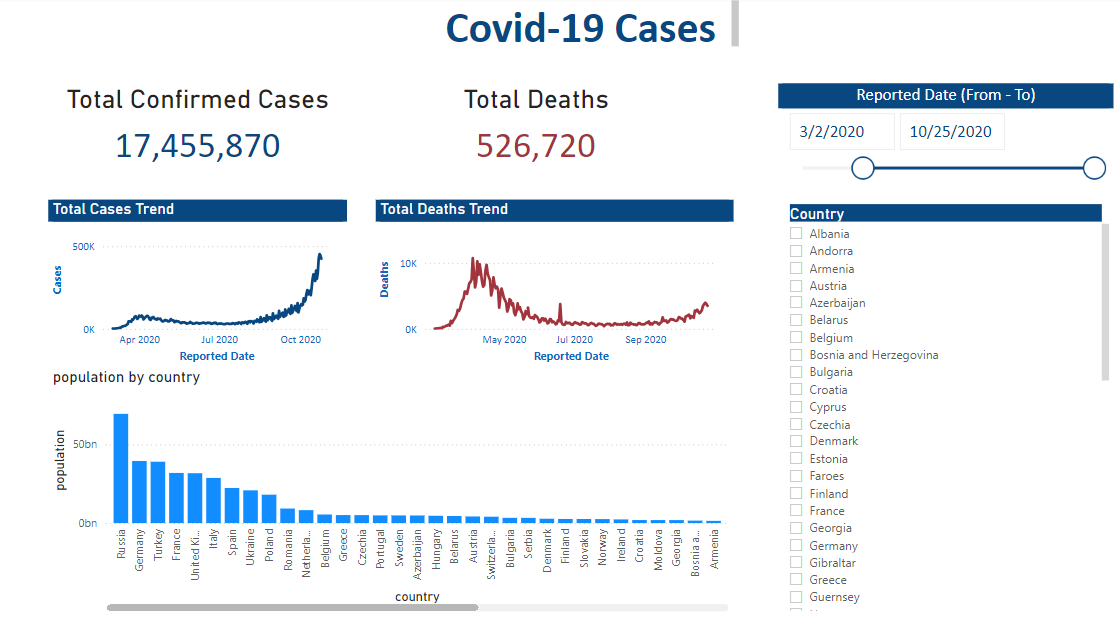

What the dashboard file says about the page in this screenshot:
{"tool":"powerbi","page":{"name":"Trends","canvas":[1280,720],"ordinal":0},"visuals":[{"type":"card","title":"Total Confirmed Cases","fields":{"Values":["Sum(covid_reporting cases_and_deaths.cases_count)"]},"box":[94.4,96,328,96],"z":0},{"type":"card","title":"Total Deaths","fields":{"Values":["Sum(covid_reporting cases_and_deaths.deaths_count)"]},"box":[454.4,96,352,96],"z":1000},{"type":"textbox","box":[525.6,0,332.1,64.5],"z":2000},{"type":"lineChart","title":"Total Cases Trend","fields":{"Category":["covid_reporting cases_and_deaths.reported_date"],"Y":["Sum(covid_reporting cases_and_deaths.cases_count)"]},"box":[94.4,224,328,184],"z":3000},{"type":"lineChart","title":"Total Deaths Trend","fields":{"Category":["covid_reporting cases_and_deaths.reported_date"],"Y":["Sum(covid_reporting cases_and_deaths.deaths_count)"]},"box":[454.2,223.7,392.5,183.9],"z":4000},{"type":"slicer","fields":{"Values":["covid_reporting cases_and_deaths.country"]},"box":[896,224,368,456],"z":5000},{"type":"slicer","title":"Reported Date (From - To)","fields":{"Values":["covid_reporting cases_and_deaths.reported_date"]},"box":[896,96,368,112],"z":8001},{"type":"columnChart","fields":{"Y":["Sum(covid_reporting cases_and_deaths.population)"],"Category":["covid_reporting cases_and_deaths.country"]},"box":[94.7,407.5,752,273.1],"z":8002}]}

Visuals, with their boxes in screenshot pixels (x1, y1, x2, y2), scaled from the page's 1280x720 canvas onto the 1120x633 screenshot:
"Total Confirmed Cases" card: <region>83, 84, 370, 169</region>
"Total Deaths" card: <region>398, 84, 706, 169</region>
textbox: <region>460, 0, 750, 57</region>
"Total Cases Trend" lineChart: <region>83, 197, 370, 359</region>
"Total Deaths Trend" lineChart: <region>397, 197, 741, 358</region>
slicer - covid_reporting cases_and_deaths.country: <region>784, 197, 1106, 598</region>
"Reported Date (From - To)" slicer: <region>784, 84, 1106, 183</region>
columnChart - Sum(covid_reporting cases_and_deaths.population) x covid_reporting cases_and_deaths.country: <region>83, 358, 741, 598</region>
